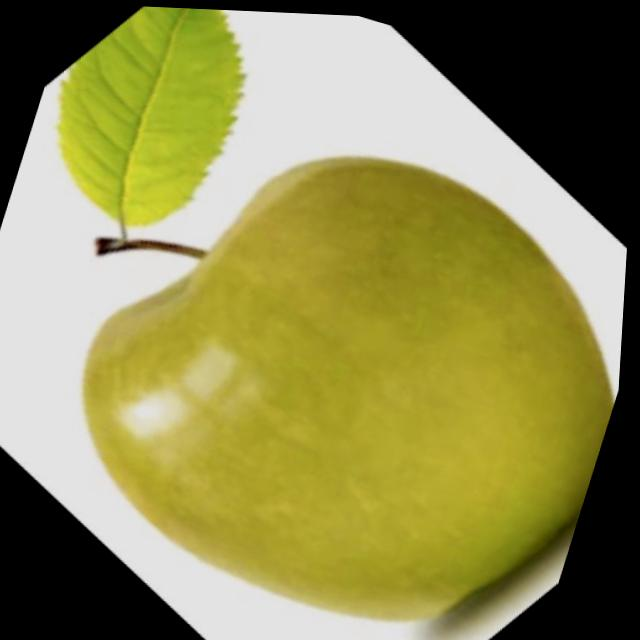Apple: (10, 75, 637, 640)
